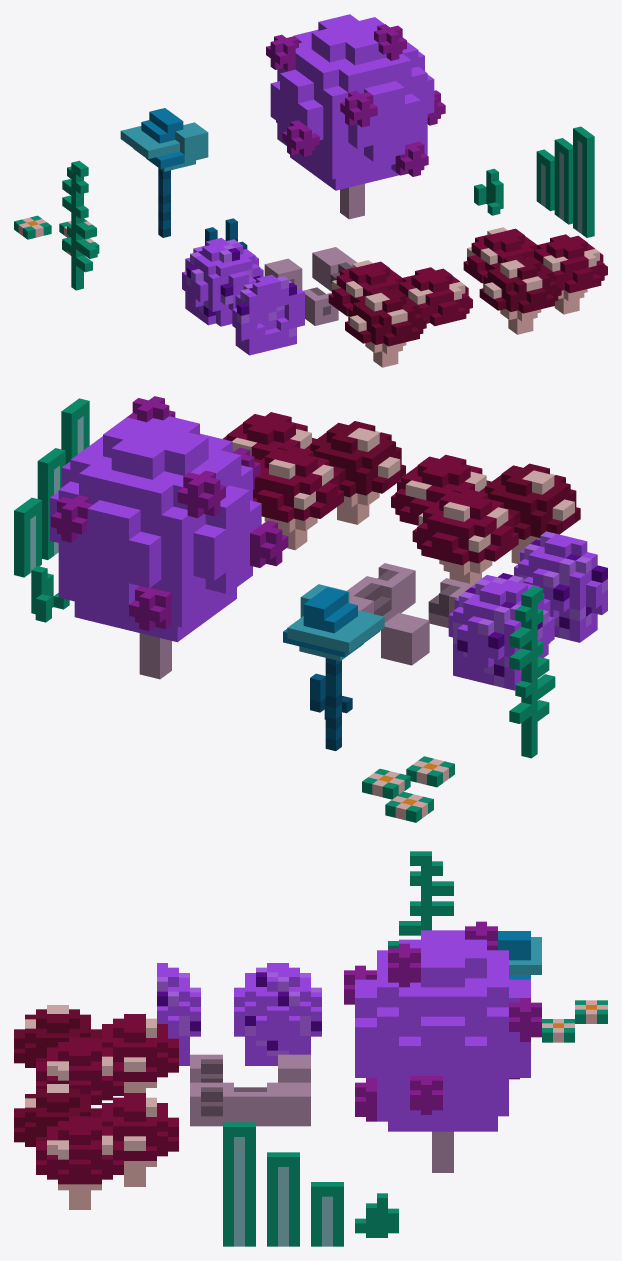
File: apple_tree.obj
3 renders of one model, top to bottom at view 1: azimuth 30°, elevation 25°; view 2: azimuth 150°, elevation 25°; view 3: azimuth 270°, elevation 25°, orthographic. The views are drawn at different scales.
Bounding box in the file's own units: 5.5 × 2.3 × 5.4.
Materials: 1 (1 with a texture image).
